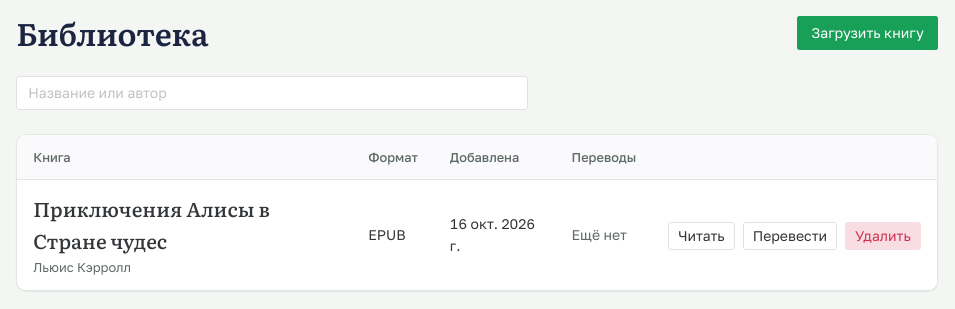
Test: библиотека › поиск по названию и автору: запрос — на сервер и в адрес страницы
The image size is (955, 309).
Step 1. Type "нет такой" into the search field with placeholder "Название или автор" → (272,92), box 28,76 -> 516,110
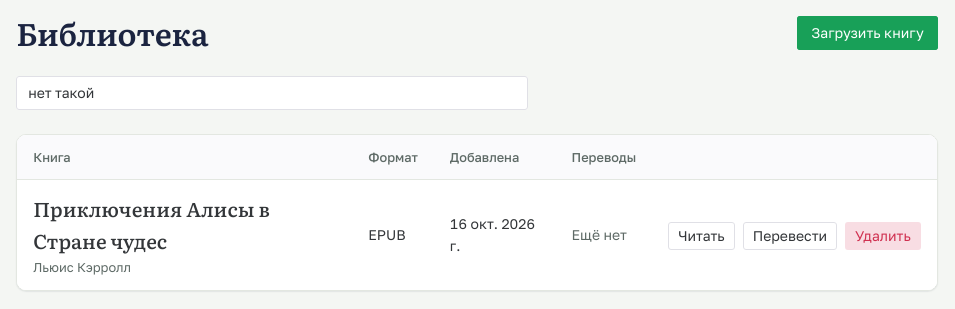
Step 2. Submit the form, box 16,76 -> 528,110
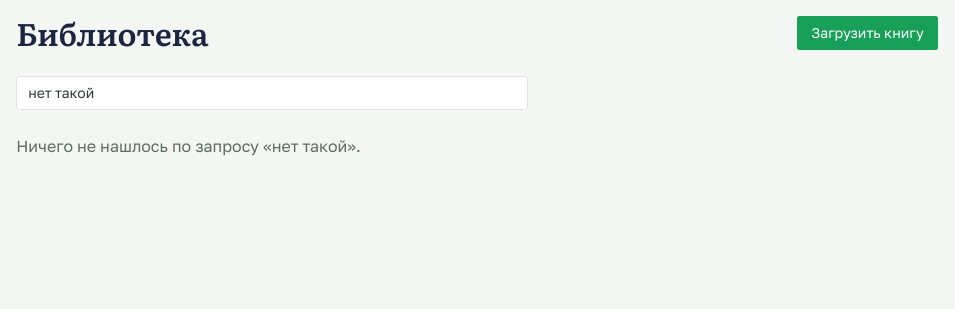
Check: the text "Ничего не нашлось по запросу «нет такой»." is shown, box 16,136 -> 361,156
